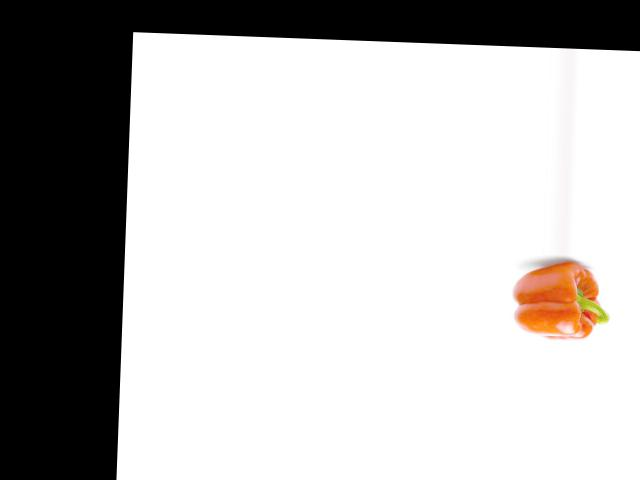bell_pepper: (502, 260, 617, 341)
